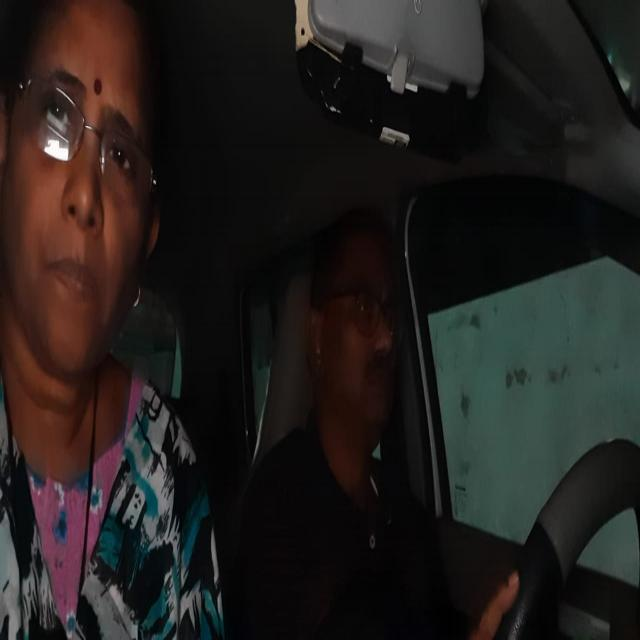person: (3, 0, 168, 381), (307, 198, 405, 447)
